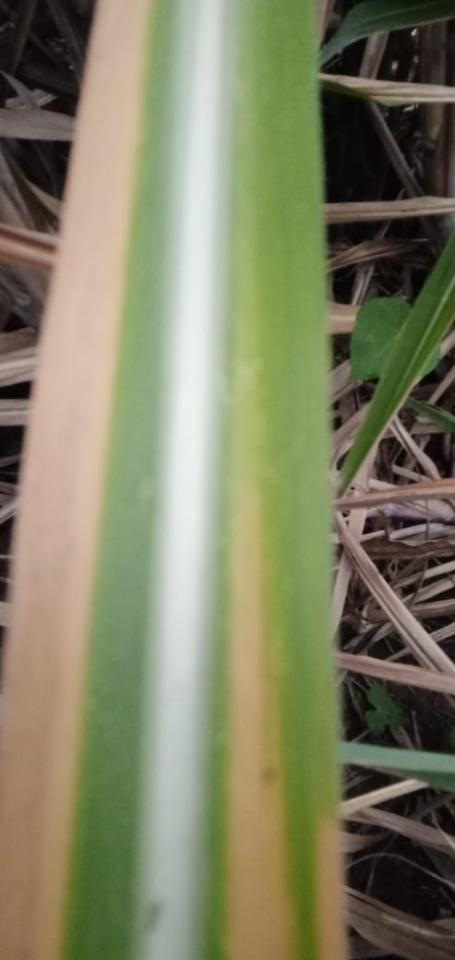Yellow: (0, 0, 150, 959), (224, 471, 298, 959), (314, 815, 351, 959)
